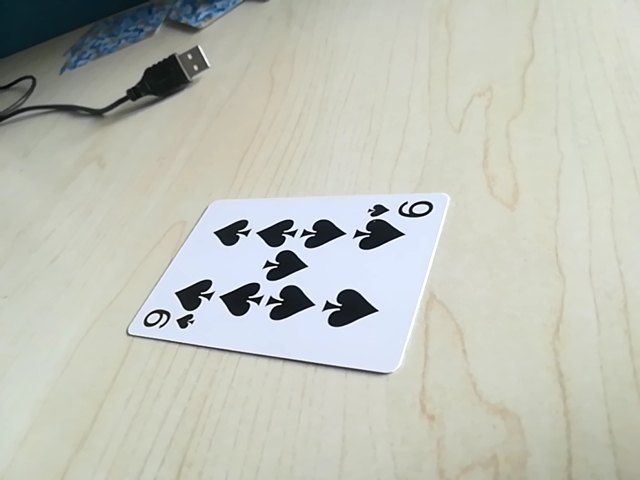ht 9: (365, 197, 442, 225), (130, 308, 199, 336)
